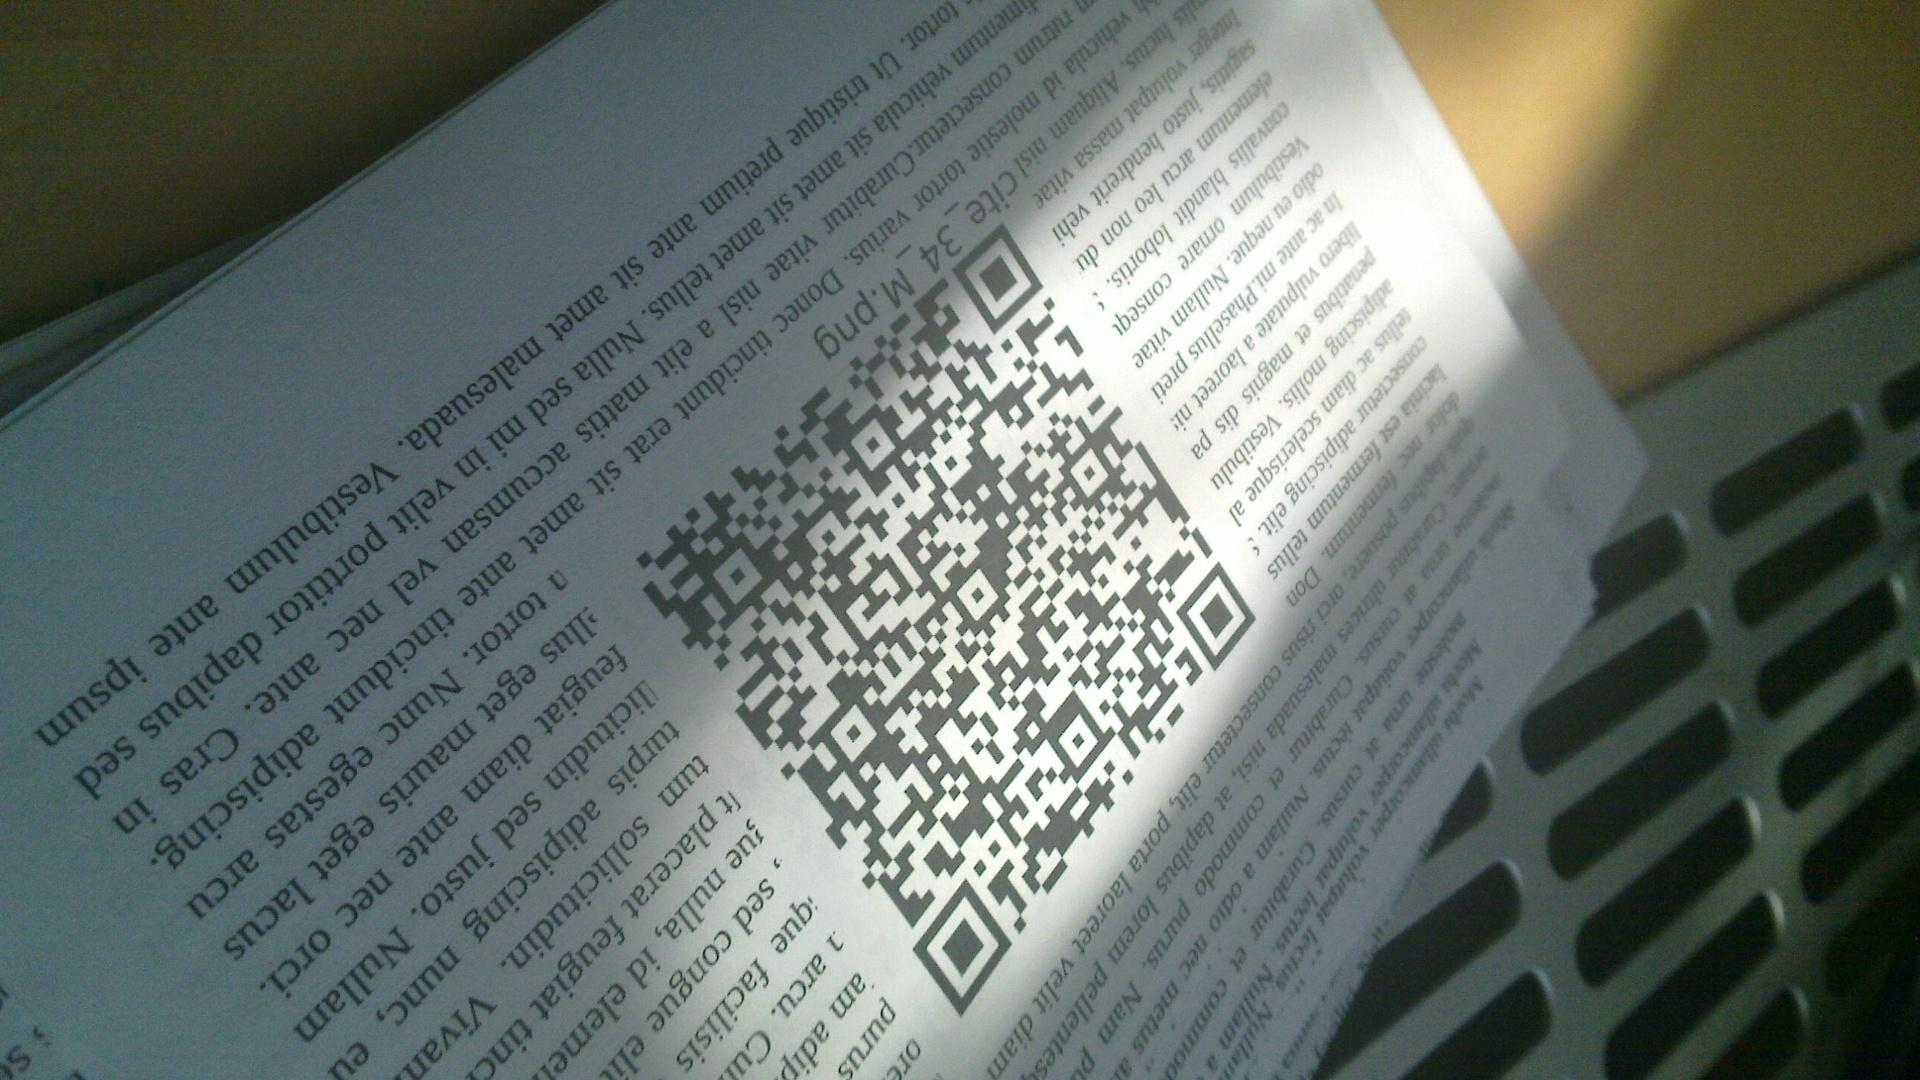Finder pattern: (911, 891, 1015, 1015), (1174, 553, 1255, 680), (949, 222, 1044, 327)
